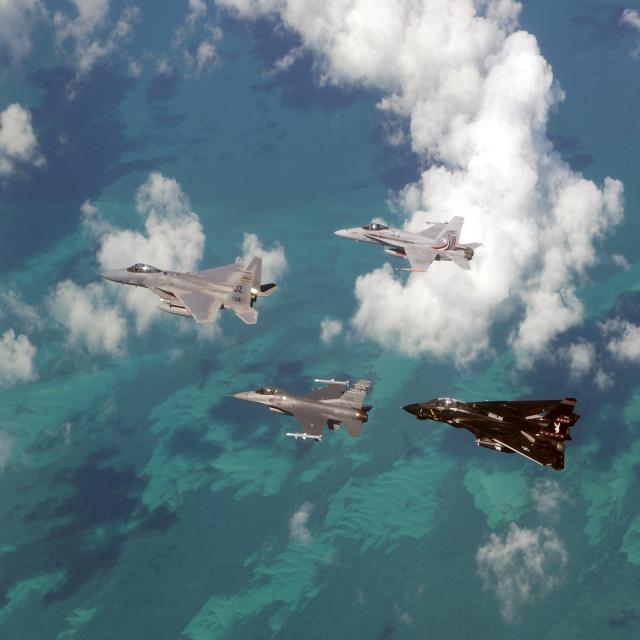MIL_Plane: (399, 397, 581, 471), (99, 254, 278, 325), (227, 378, 373, 442), (333, 215, 483, 273)
